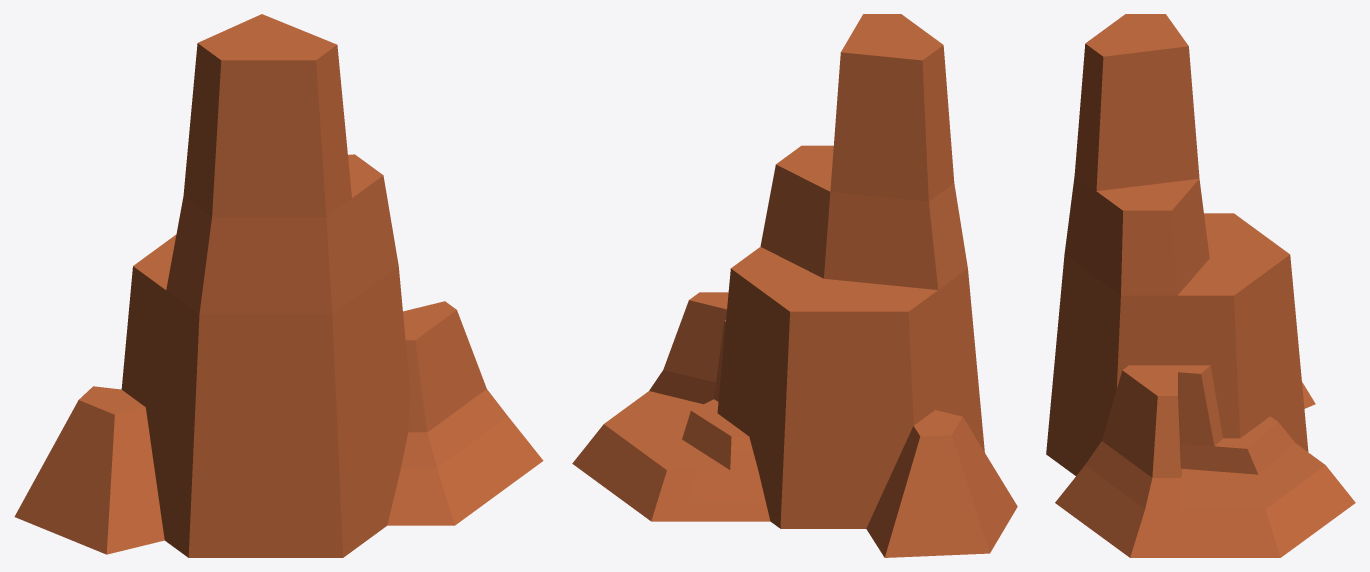
File: mesa_6.fbx
3 views of the same model, side by side, from view 1: azimuth 30°, elevation 25°; view 2: azimuth 150°, elevation 25°; view 3: azimuth 270°, elevation 25° (orthographic). The views are drawn at different scales.
Parts seen in each view (by area): view 1: mesa_6; view 2: mesa_6; view 3: mesa_6.
Part boxes in pixels (bbox=[...]): mesa_6: bbox=[14, 14, 543, 557]; mesa_6: bbox=[572, 14, 1017, 557]; mesa_6: bbox=[1046, 14, 1355, 557].
Size of the model in its own units: 0.9831 by 0.9959 by 0.6832.
1 material, 1 textured.
